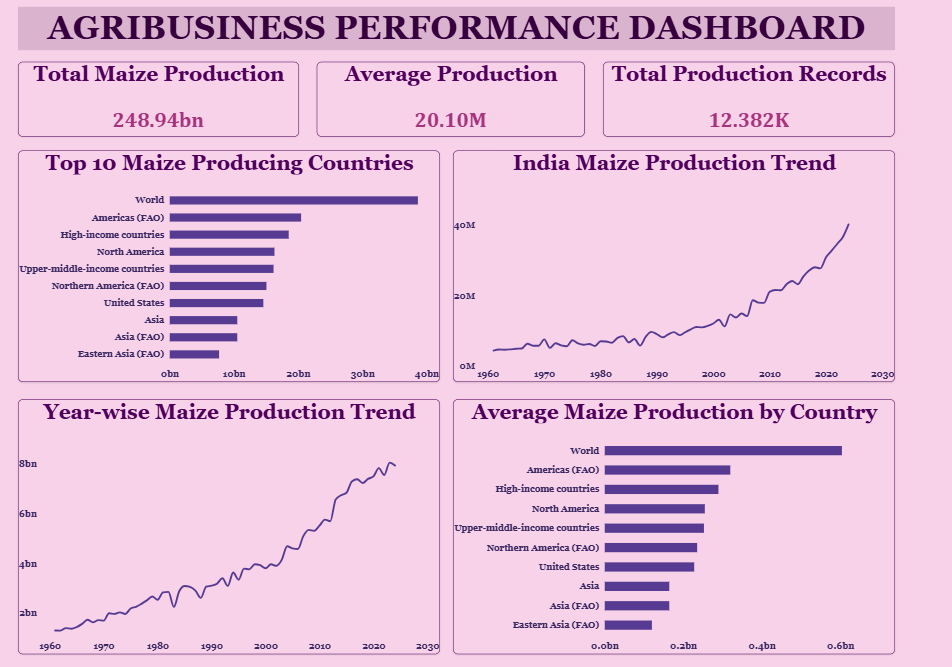

The dashboard page shown, as its layout file describes it:
{"tool":"powerbi","page":{"name":"Page 1","canvas":[1920,1080],"ordinal":0},"visuals":[{"type":"cardVisual","title":"Total Maize Production","fields":{"Data":["Sum(public crop_production.production_tonnes)"]},"box":[295.3,101.5,449.5,120.4],"z":0},{"type":"cardVisual","title":"Average Production","fields":{"Data":["Avg(public crop_production.production_tonnes)"]},"box":[774.9,101.5,428.8,120.4],"z":1000},{"type":"cardVisual","title":"Total Production Records","fields":{"Data":["CountNonNull(public crop_production.production_id)"]},"box":[1232,101.5,466.5,120.4],"z":2000},{"type":"clusteredBarChart","title":"Top 10 Maize Producing Countries","fields":{"Category":["public countries.country_name"],"Y":["Sum(public crop_production.production_tonnes)"]},"box":[295.3,244.5,675.2,370.5],"z":3000},{"type":"lineChart","title":"Year-wise Maize Production Trend","fields":{"Y":["Sum(public crop_production.production_tonnes)"],"Category":["public crop_production.year"]},"box":[295.3,641.3,675.2,408.2],"z":4000},{"type":"lineChart","title":"India Maize Production Trend","fields":{"Y":["Sum(public crop_production.production_tonnes)"],"Category":["public crop_production.year"]},"box":[991.2,244.5,707.2,370.5],"z":5000},{"type":"clusteredBarChart","title":"Average Maize Production by Country","fields":{"Category":["public countries.country_name"],"Y":["Avg(public crop_production.production_tonnes)"]},"box":[991.2,641.3,707.2,408.2],"z":6000},{"type":"textbox","box":[295.3,13.2,1403.1,69.6],"z":7000}]}

Visuals, with their boxes on the page's 1920x1080 design canvas (x1, y1, x2, y2). These are canvas units, not pixel positions in the 952x667 screenshot, which may show the page scaled, cropped or inside an application window:
"Total Maize Production" cardVisual: (295, 102, 745, 222)
"Average Production" cardVisual: (775, 102, 1204, 222)
"Total Production Records" cardVisual: (1232, 102, 1698, 222)
"Top 10 Maize Producing Countries" clusteredBarChart: (295, 244, 970, 615)
"Year-wise Maize Production Trend" lineChart: (295, 641, 970, 1050)
"India Maize Production Trend" lineChart: (991, 244, 1698, 615)
"Average Maize Production by Country" clusteredBarChart: (991, 641, 1698, 1050)
textbox: (295, 13, 1698, 83)
